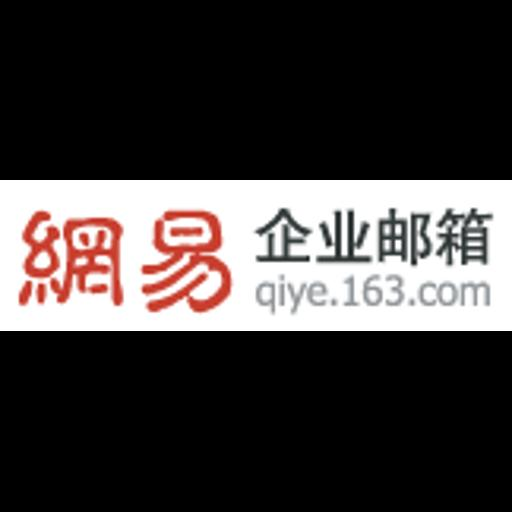NetEase: (0, 180, 512, 331)
